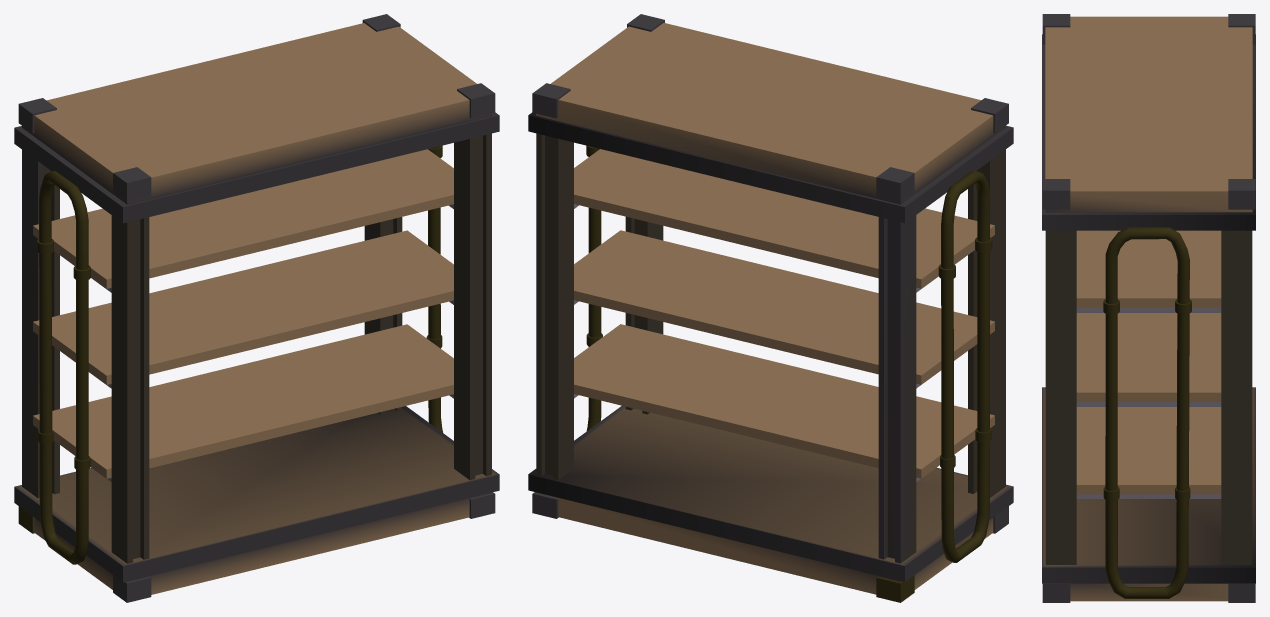
File: IndustrialShelvesShort.fbx
The picture shows the model from 3 angles, left to right: view 1: azimuth 30°, elevation 25°; view 2: azimuth 150°, elevation 25°; view 3: azimuth 270°, elevation 25°; orthographic projection.
Parts seen in each view (by area): view 1: IndustrialShelvesShort; view 2: IndustrialShelvesShort; view 3: IndustrialShelvesShort.
Boxes of the visible parts, box(x1,y1,x2,y2) form: IndustrialShelvesShort: box(14, 14, 499, 602); IndustrialShelvesShort: box(528, 14, 1013, 602); IndustrialShelvesShort: box(1042, 14, 1255, 602).
Bounding box in the file's own units: 443 × 440 × 207.
